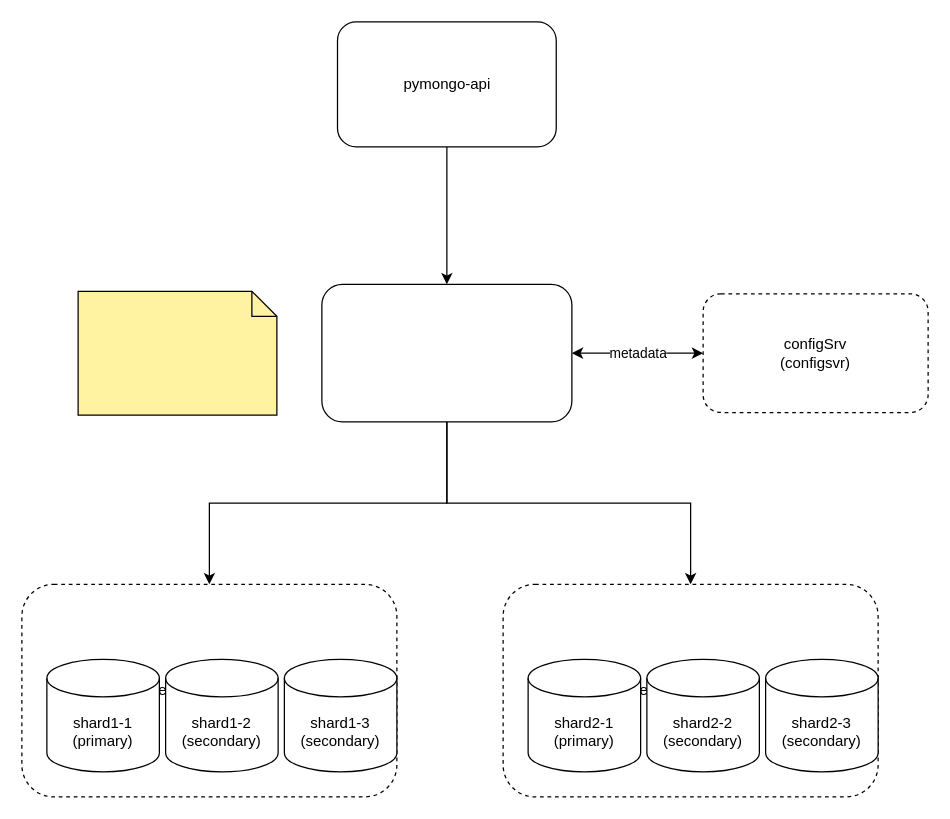
Image size: 950x819. Some labels were removed from this diagram. The centre of each missing label's shape, as x and y in pixels:
mongos (router): point (446, 352)
Коллекция: somedb.helloDoc Пример ключа: hashed(user_id): point (177, 352)
